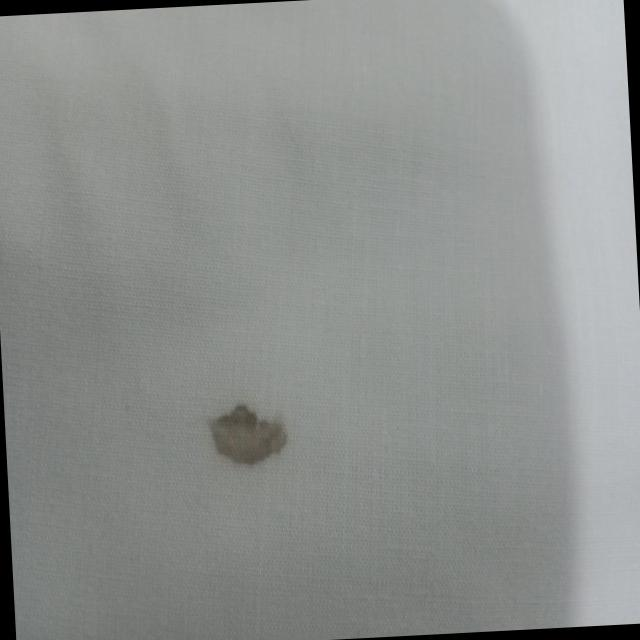stain: (197, 392, 299, 480)
